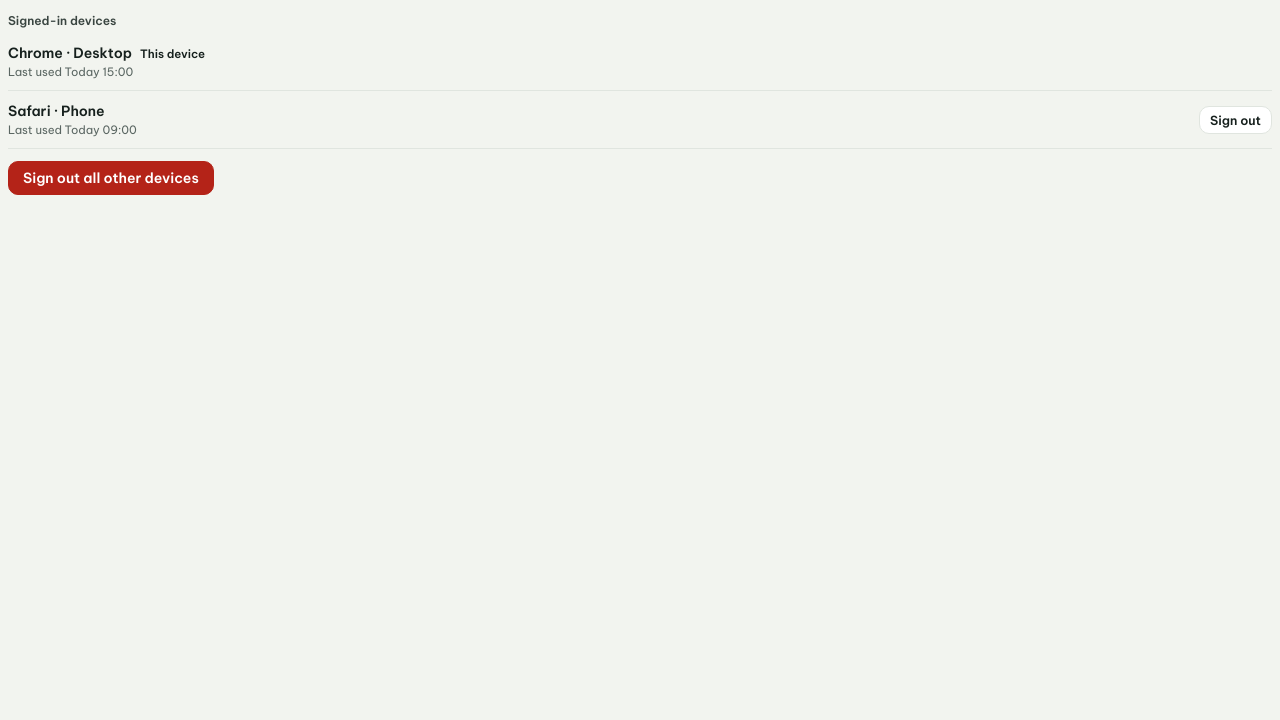
Test: offline (R20) › Confirm calls nothing, the dialog stays open and the explanation shows
Click the button with aria-label "Sign out Safari". click: x=1236, y=120
box: [1199,106,1272,134]
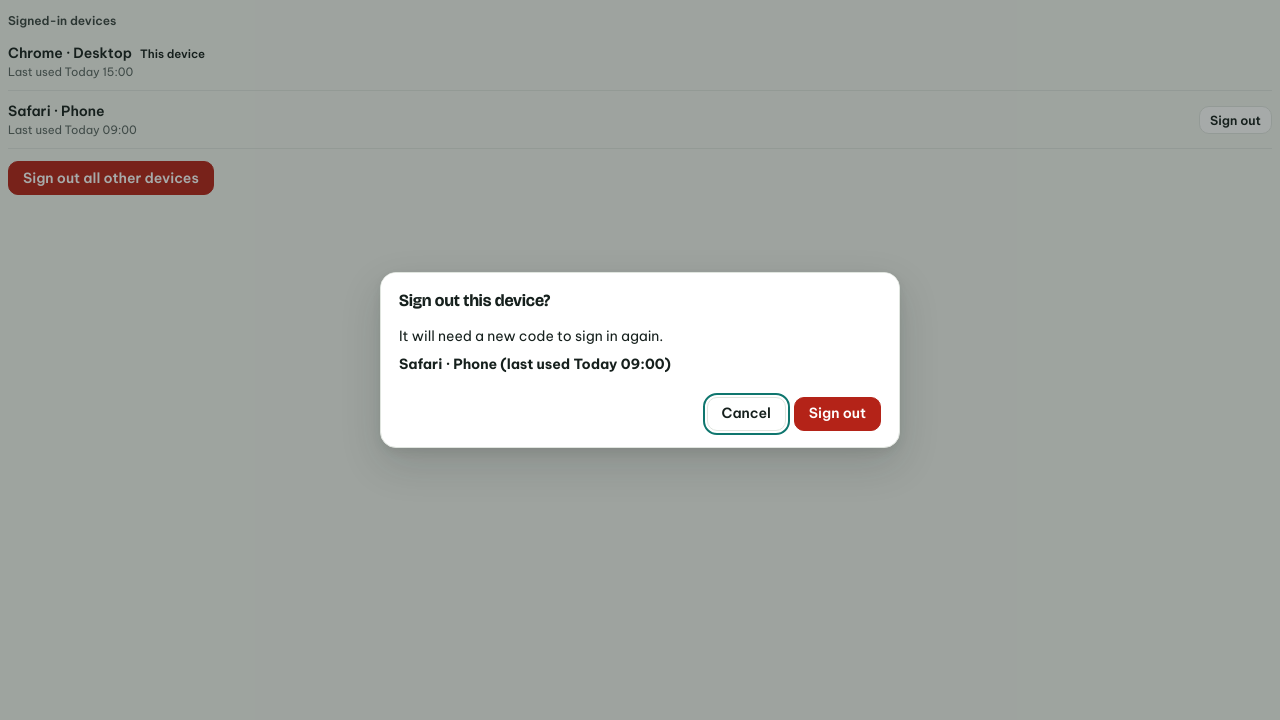
Click the button "Sign out". click: x=837, y=414
box: [794,397,881,431]
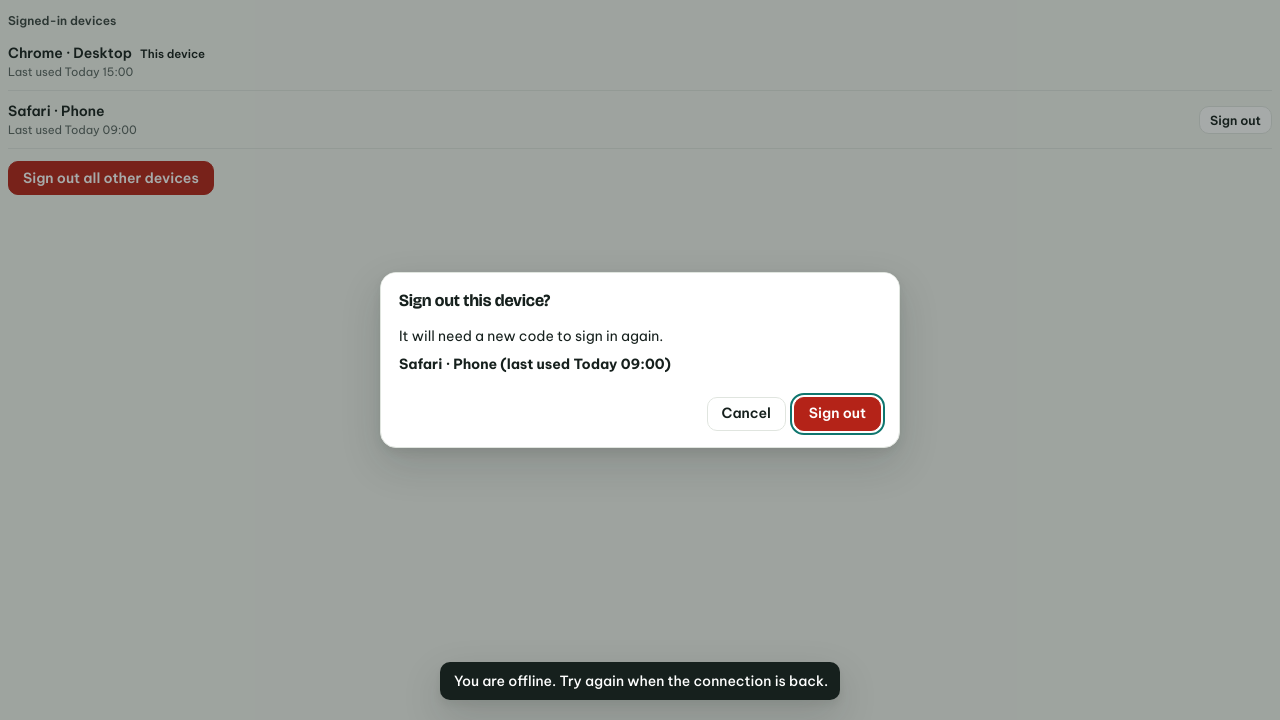
expect the dialog is shown: met, box [380,272,900,448]
expect the text "You are offline. Try again when the connection is back." is shown: met, box [454,671,828,691]
